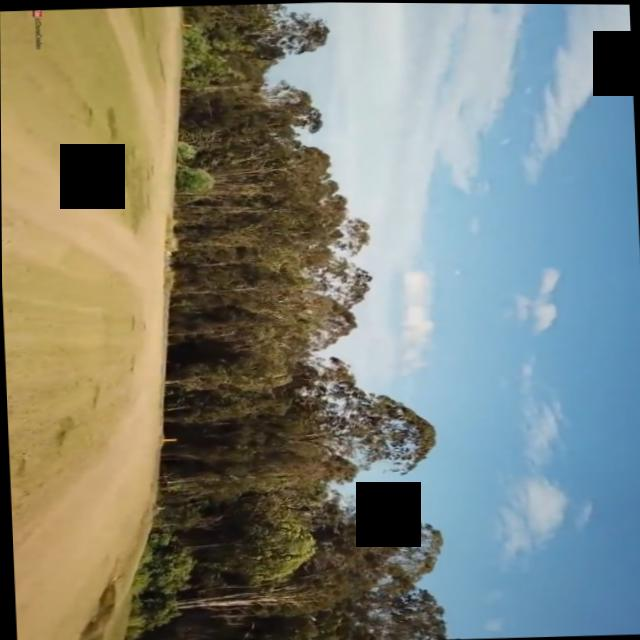Tree: (143, 499, 441, 583), (166, 396, 437, 480), (139, 579, 439, 640), (167, 190, 378, 263), (160, 290, 356, 356), (169, 255, 378, 315), (158, 346, 356, 409), (176, 138, 339, 202), (181, 1, 338, 61), (176, 81, 332, 141)
